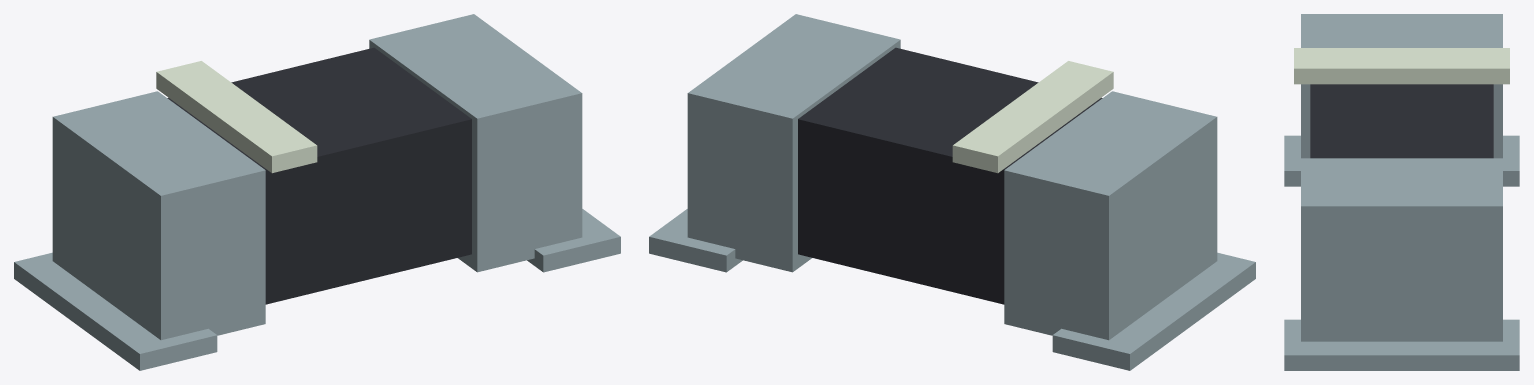
The model's file is 45_L97_D3_Diode.fbx.
3 views of the same model, side by side, from view 1: azimuth 30°, elevation 25°; view 2: azimuth 150°, elevation 25°; view 3: azimuth 270°, elevation 25° (orthographic). The views are drawn at different scales.
Visible parts, largest first — view 1: D3_endcap (×2), D3_ceramic, D3_solder (×2), D3_cathode; view 2: D3_endcap (×2), D3_ceramic, D3_solder (×2), D3_cathode; view 3: D3_endcap (×2), D3_ceramic, D3_solder (×2), D3_cathode.
Boxes of the visible parts, bbox=[...] form: D3_endcap (×2): bbox=[52, 14, 582, 340]; D3_ceramic: bbox=[167, 47, 471, 304]; D3_solder (×2): bbox=[14, 209, 620, 370]; D3_cathode: bbox=[156, 61, 317, 173]; D3_endcap (×2): bbox=[687, 14, 1217, 340]; D3_ceramic: bbox=[798, 47, 1102, 304]; D3_solder (×2): bbox=[649, 209, 1255, 370]; D3_cathode: bbox=[952, 61, 1113, 173]; D3_endcap (×2): bbox=[1301, 14, 1502, 341]; D3_ceramic: bbox=[1310, 84, 1493, 158]; D3_solder (×2): bbox=[1284, 135, 1519, 370]; D3_cathode: bbox=[1294, 48, 1509, 84].
Bounding box in the file's own units: 0.00298 × 0.00105 × 0.00135.
